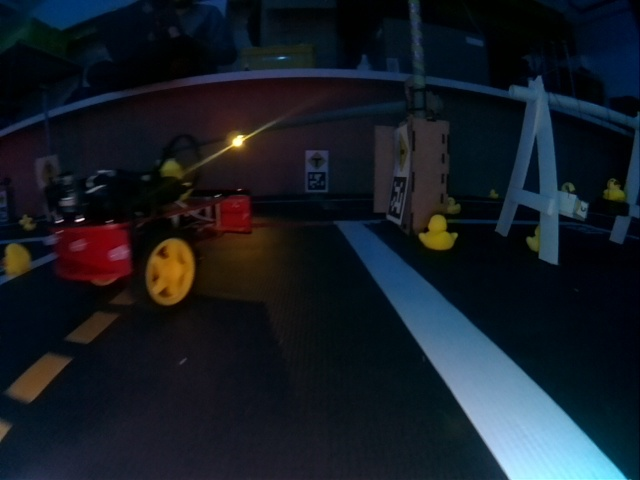Duckie: (420, 214, 457, 250), (2, 246, 30, 273), (603, 178, 625, 201), (527, 223, 540, 251), (447, 200, 457, 212), (489, 190, 496, 197)
Duckiebot: (46, 170, 253, 306)
Intersection sign: (394, 133, 408, 168), (308, 152, 326, 169)
QR code: (387, 177, 407, 217), (307, 172, 326, 191)
Traffic light: (229, 134, 248, 147)
